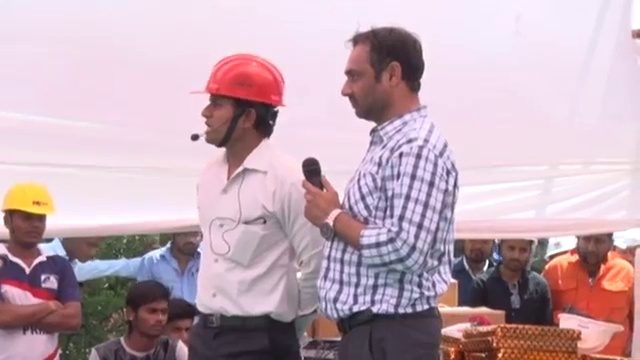helmet: (180, 51, 291, 108), (557, 309, 625, 354), (0, 183, 56, 219), (542, 233, 579, 263)
helmet_off: (340, 27, 428, 123), (123, 281, 172, 339), (158, 301, 194, 354), (56, 234, 105, 270), (499, 237, 539, 276), (162, 229, 199, 264), (578, 231, 616, 265), (463, 232, 492, 264)
helmet_on: (178, 53, 291, 164), (1, 185, 57, 258)
person: (300, 26, 459, 358), (176, 55, 322, 359), (0, 181, 82, 358), (550, 228, 635, 346), (90, 280, 189, 360), (472, 236, 554, 319), (136, 230, 207, 310), (448, 230, 506, 310)
